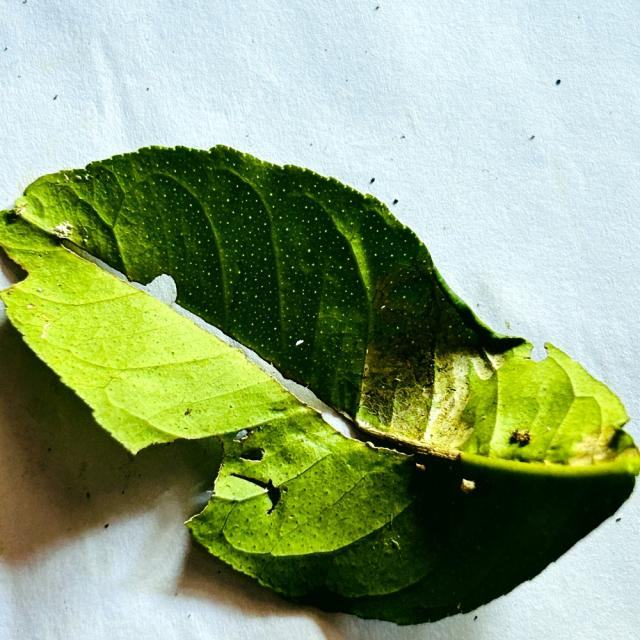Deficiency Leaf: (176, 298, 371, 449), (390, 210, 554, 362), (142, 436, 224, 527), (144, 279, 175, 311)
Lemon: (0, 141, 639, 627)
